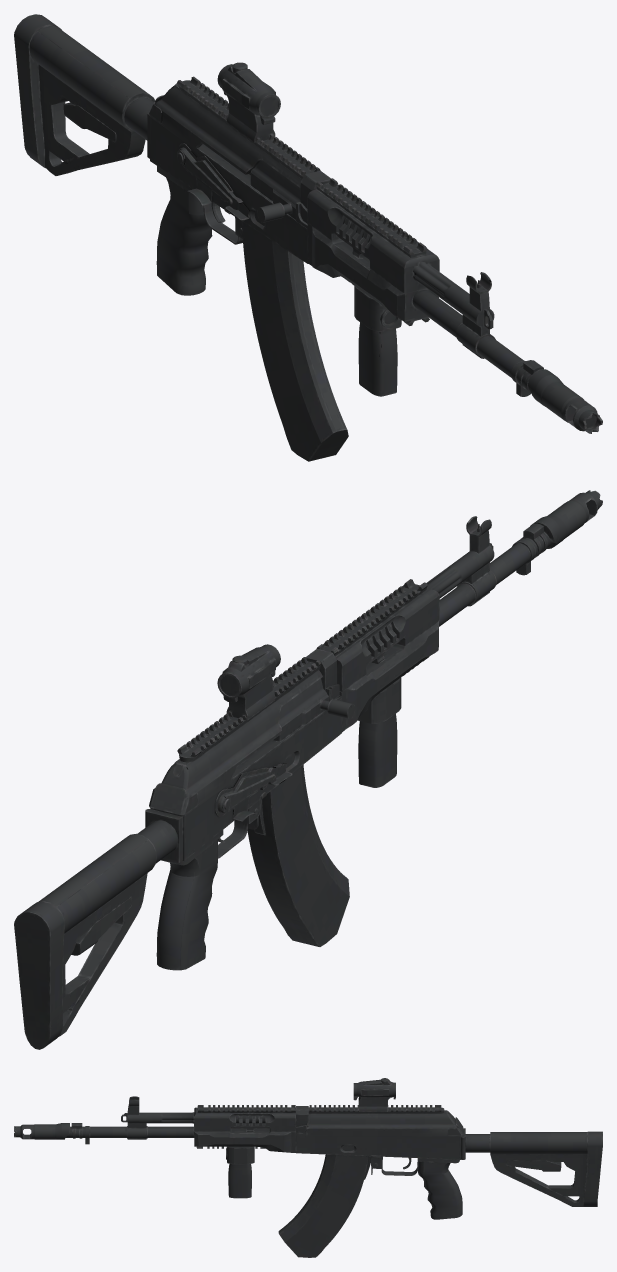
File: r4_modern.glb
3 renders of one model, top to bottom at view 1: azimuth 30°, elevation 25°; view 2: azimuth 150°, elevation 25°; view 3: azimuth 270°, elevation 25°, orthographic. The views are drawn at different scales.
Parts seen in each view (by area): view 1: body; view 2: body; view 3: body.
Boxes of the visible parts, left/top/right/bottom form: body: left=14, top=14, right=602, bottom=461; body: left=14, top=490, right=602, bottom=1049; body: left=14, top=1078, right=602, bottom=1257.
Bounding box in the file's own units: 0.0631 × 0.3053 × 0.93.
Materials: 2 (2 with a texture image).
